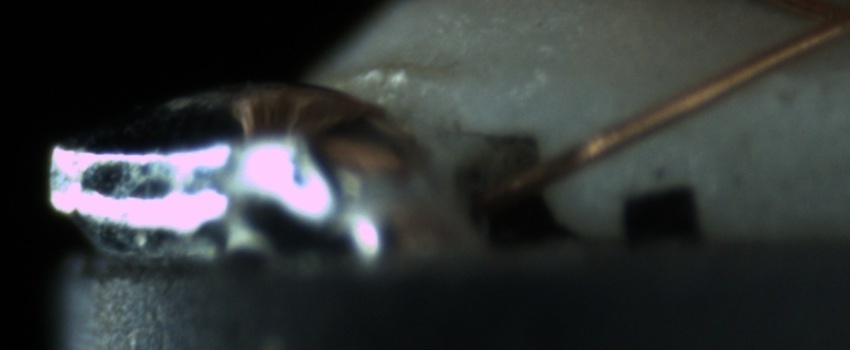CL: (779, 0, 849, 48)
